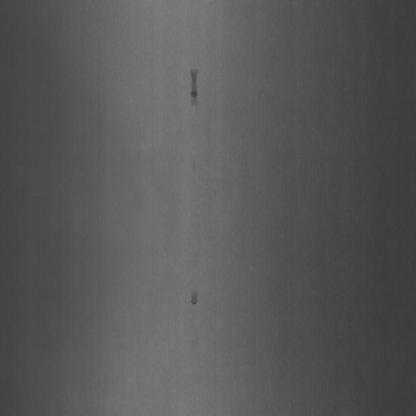oil_spot: (181, 61, 204, 116), (185, 278, 202, 323)
